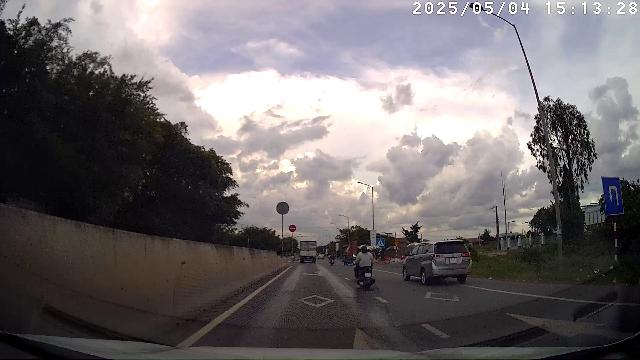102-cam-di-nguoc-chieu: (289, 224, 297, 232)
423a-duong-nguoi-di-bo-sang-ngang-1: (376, 237, 385, 248)
